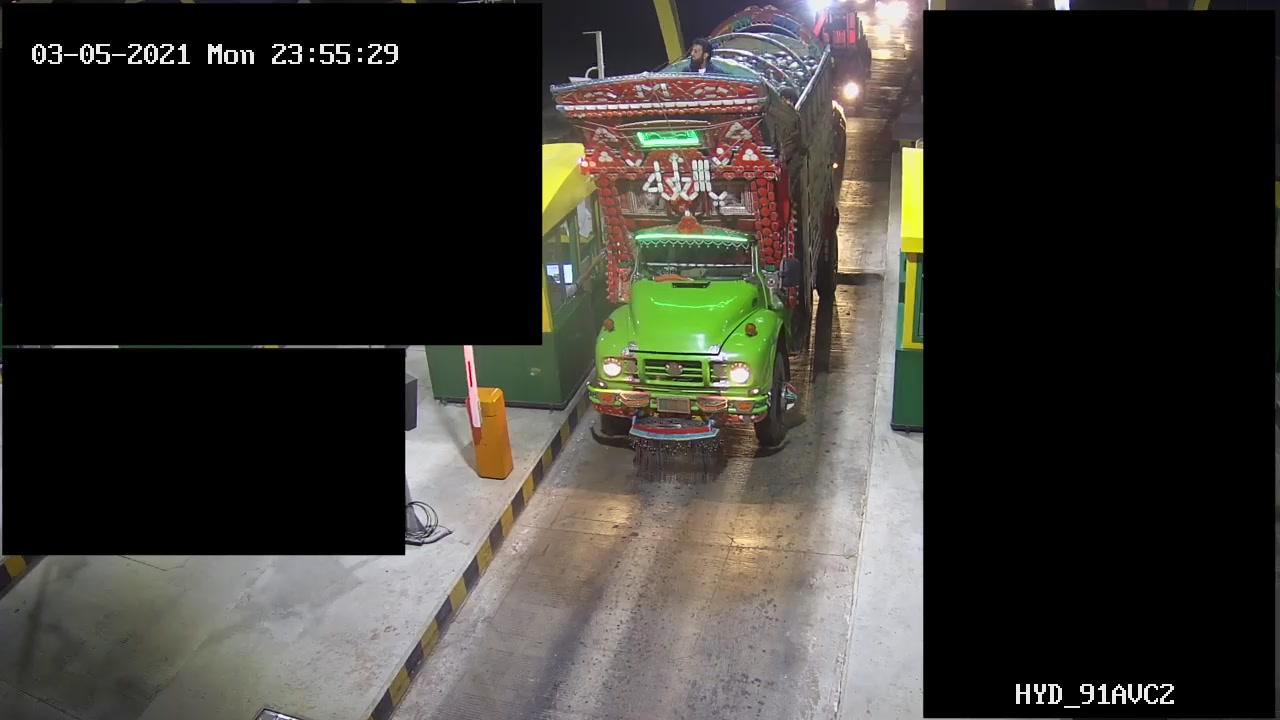F5: (546, 7, 838, 482)
